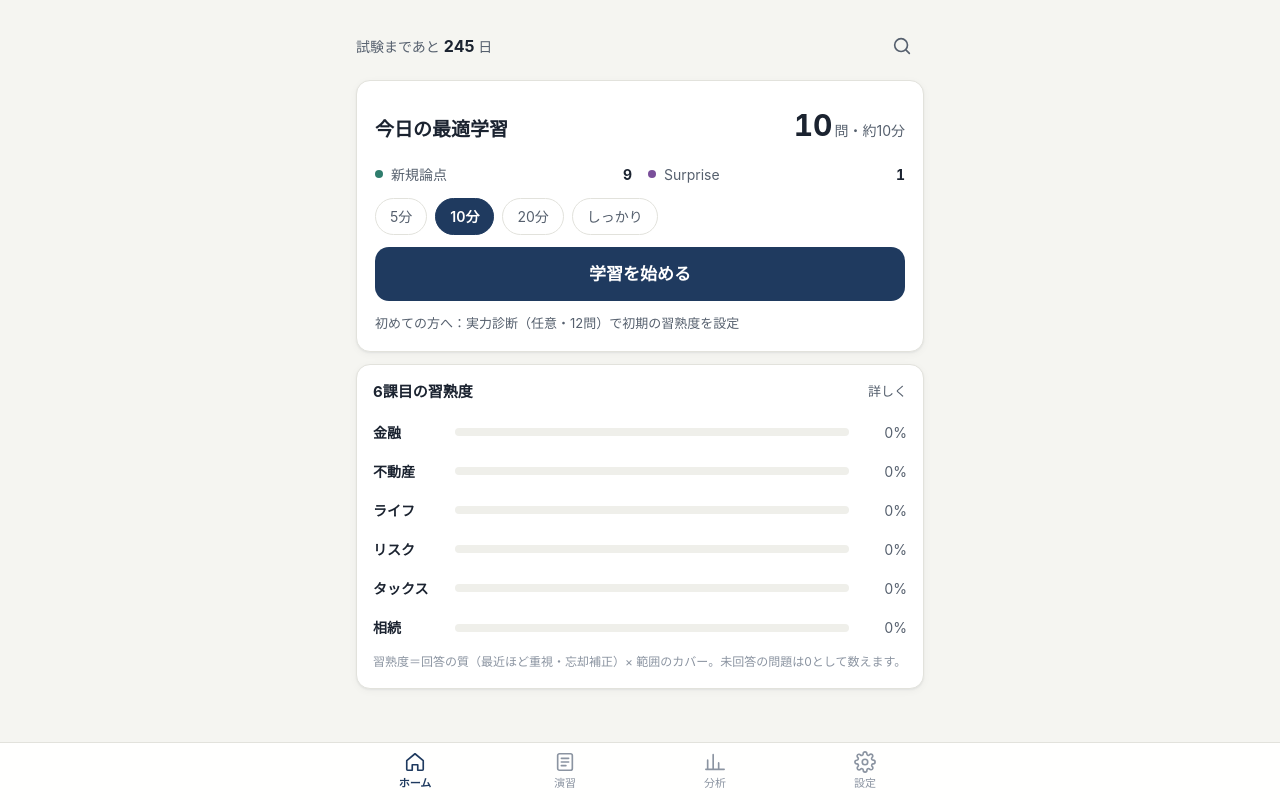
UI スモーク › 演習・分析・設定・問題管理の各画面が描画できる
Check: the button "学習を始める" is shown, box [375,247,905,301]
Step 1. Click the link "演習" → point(565, 770), box [554,751,576,790]
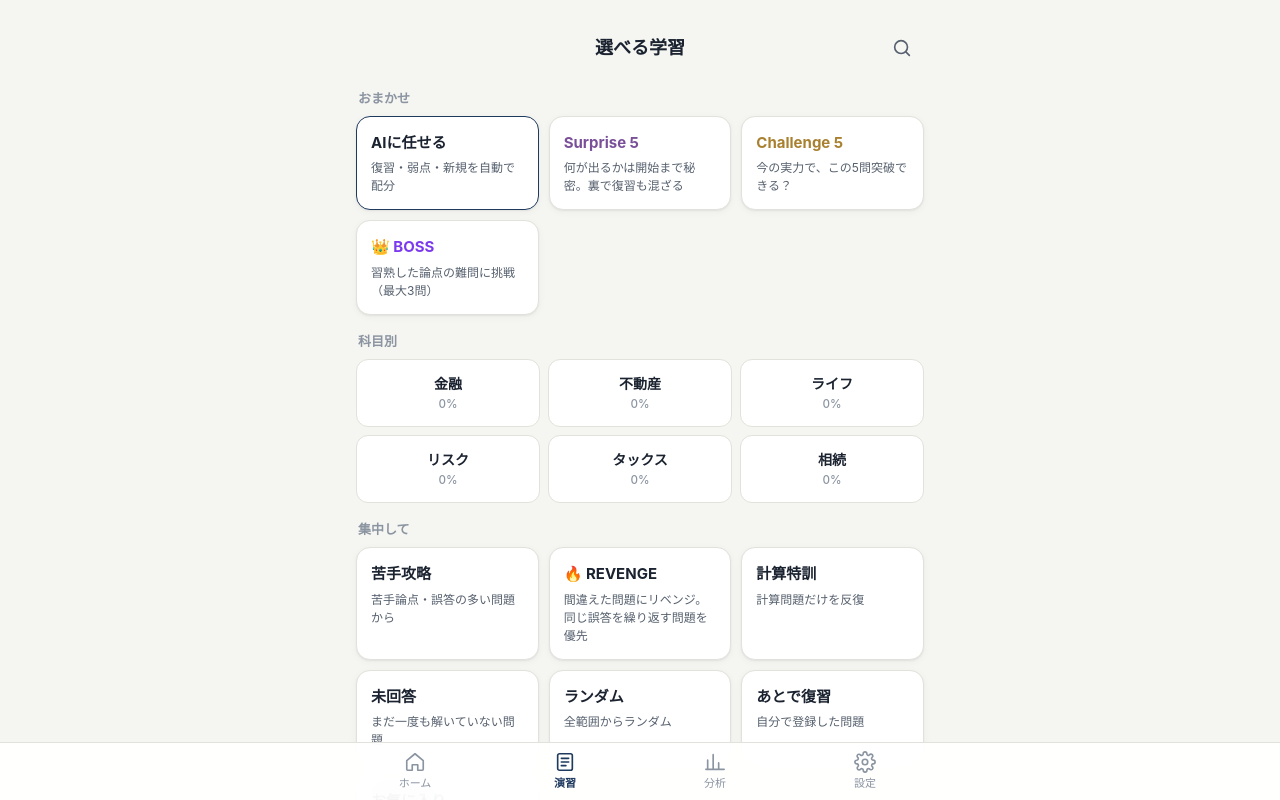
Check: the text "Surprise 5" is shown, box [564,130,639,155]
Step 2. Click the link "分析" → point(715, 770), box [704,751,726,790]
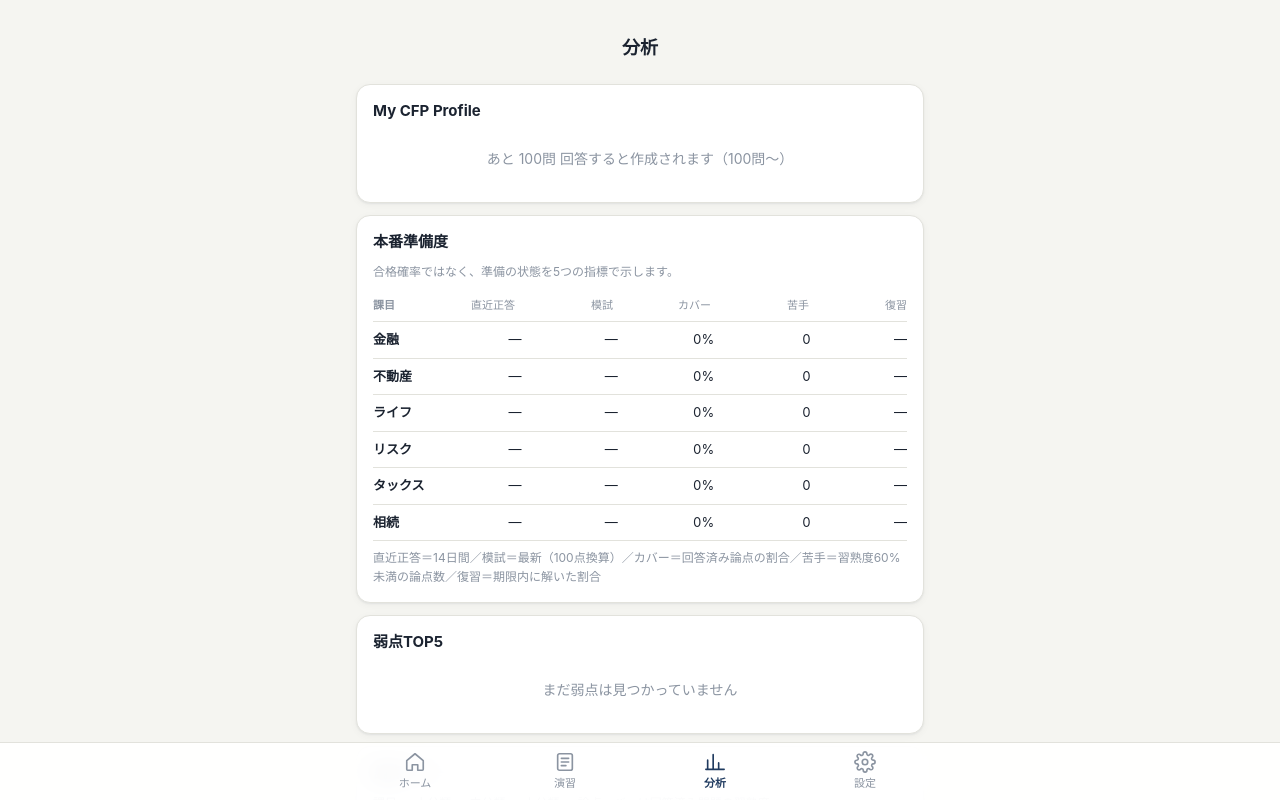
Check: the heading "本番準備度" is shown, box [373,232,448,251]
Check: the heading "My CFP Profile" is shown, box [373,101,481,120]
Step 3. Click the link "設定" → point(865, 770), box [854,751,876,790]
(page scrolled)
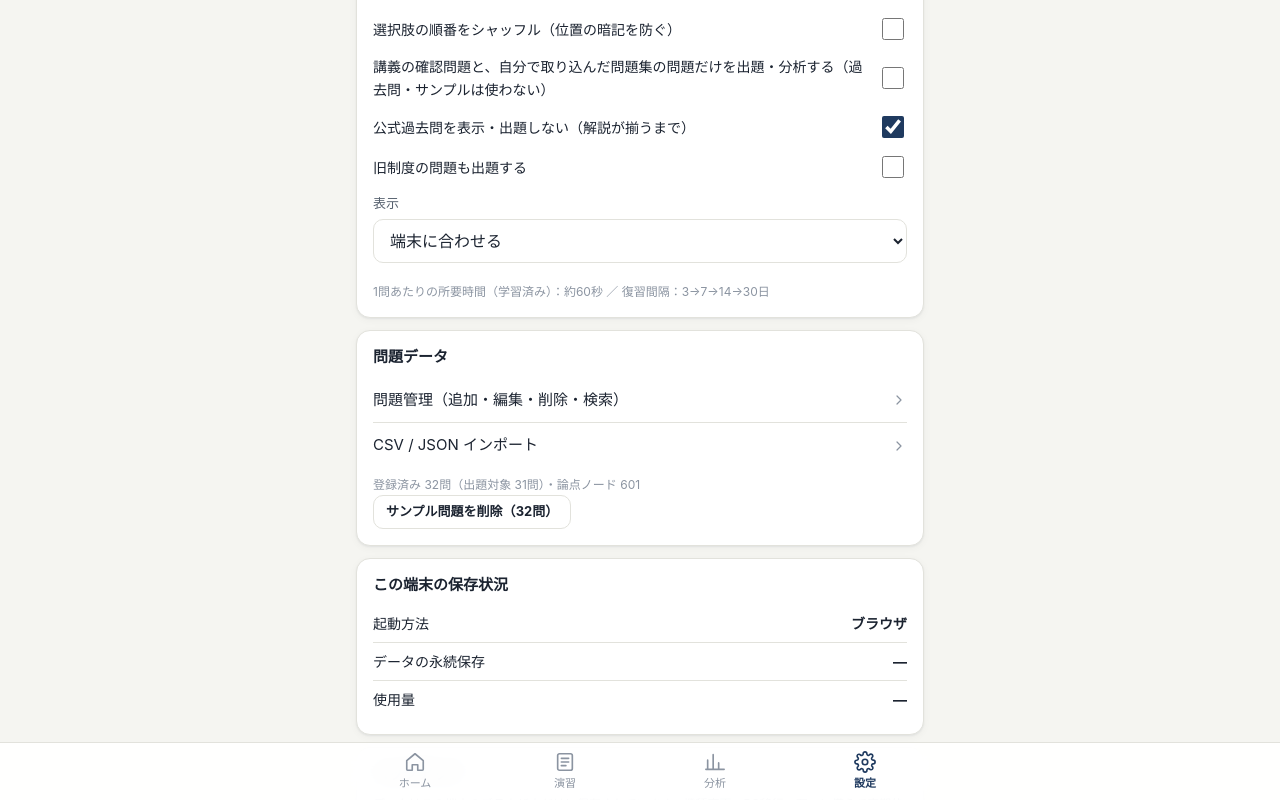
Check: the heading "バックアップ" is shown, box [373,764,463,783]
Step 4. Click the link "問題管理（追加・編集・削除・検索）" → point(501, 399), box [373,390,907,409]
(page scrolled)
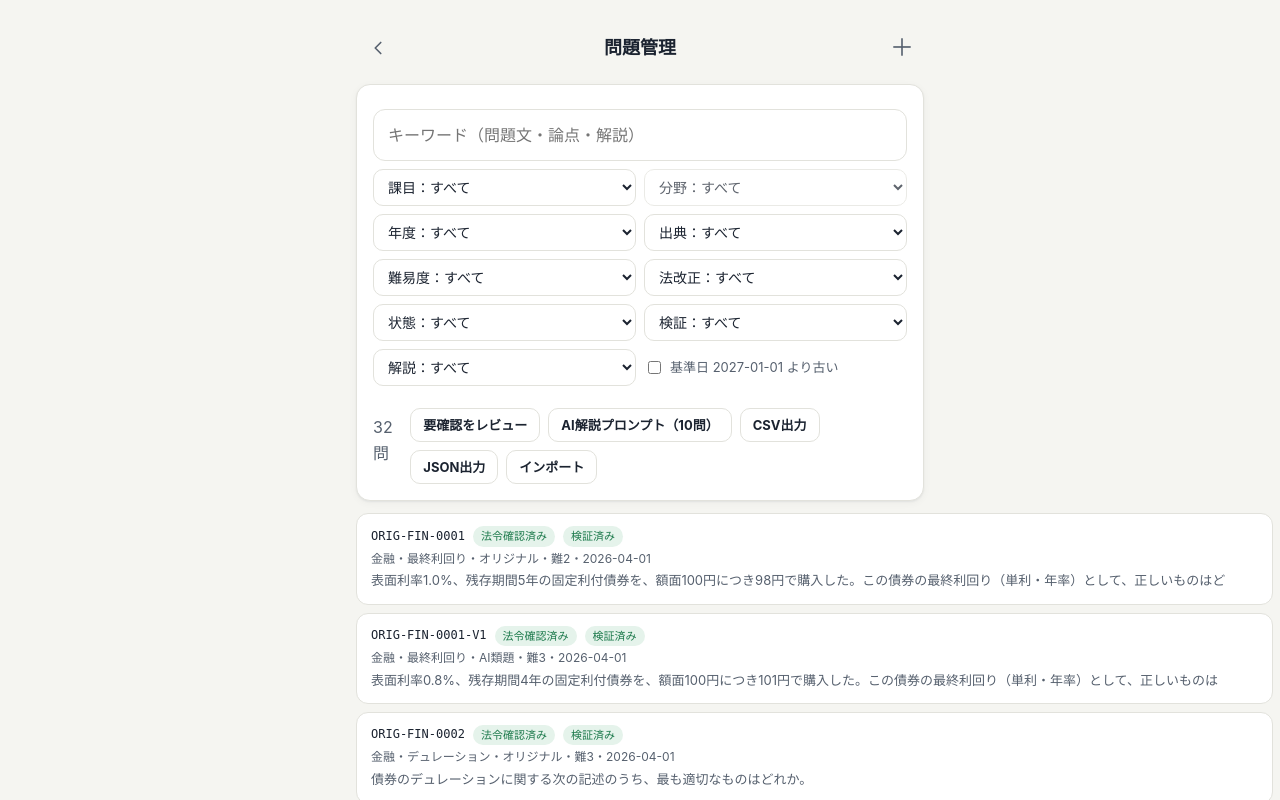
Check: the text "ORIG-FIN-0001" is shown, box [371,527,465,546]
